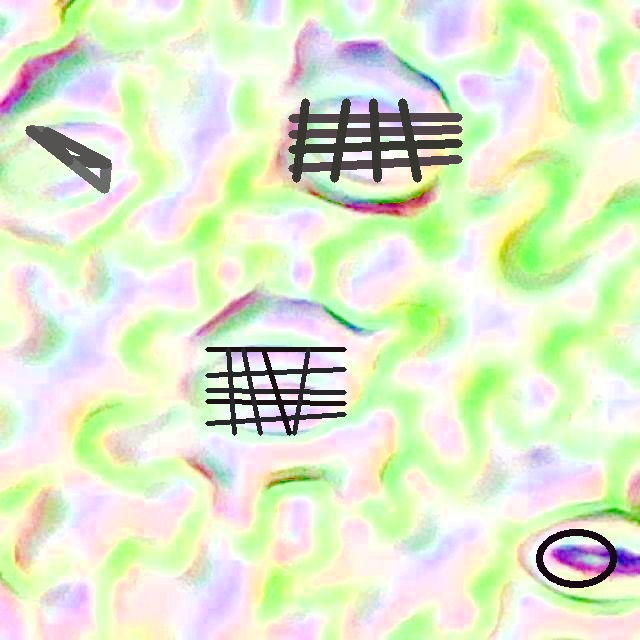close: (289, 98, 461, 181), (26, 128, 110, 192)
open: (205, 347, 346, 435), (534, 527, 617, 588)
